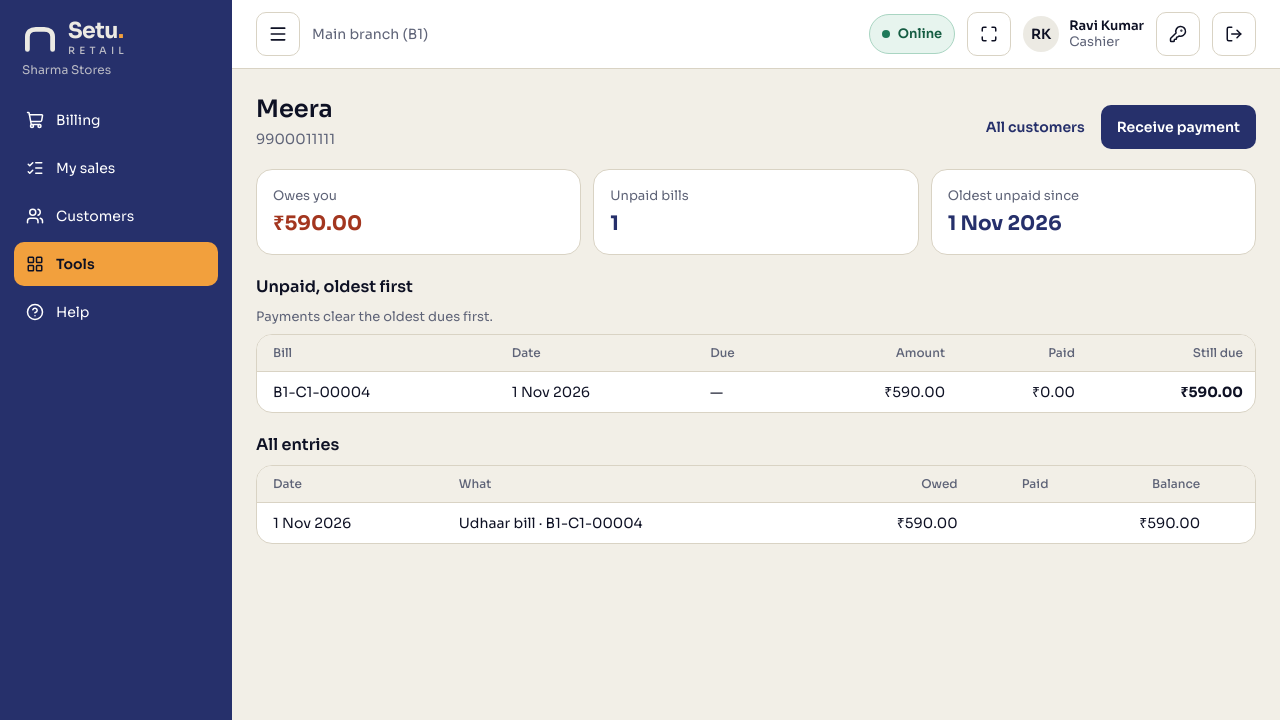
Test case: connected tools › a cashier receives an udhaar payment; the oldest dues go first
Expected: the heading "Meera" is shown, [256, 93, 335, 125]
Click the button "Receive payment": [1178, 127] box [1101, 105, 1256, 149]
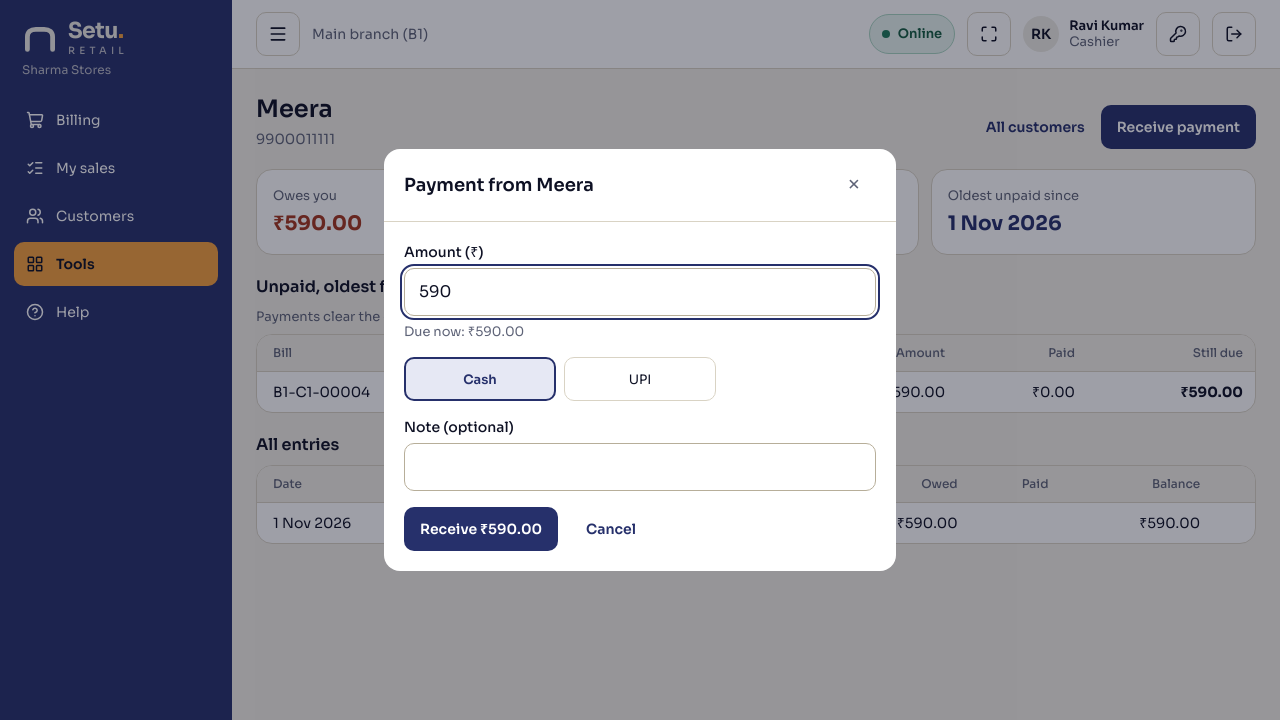
Now the field labelled "Amount (₹)" holds "590"
Replace the text in the field labelled "Amount (₹)" with "400": [640, 292] box [404, 268, 876, 316]
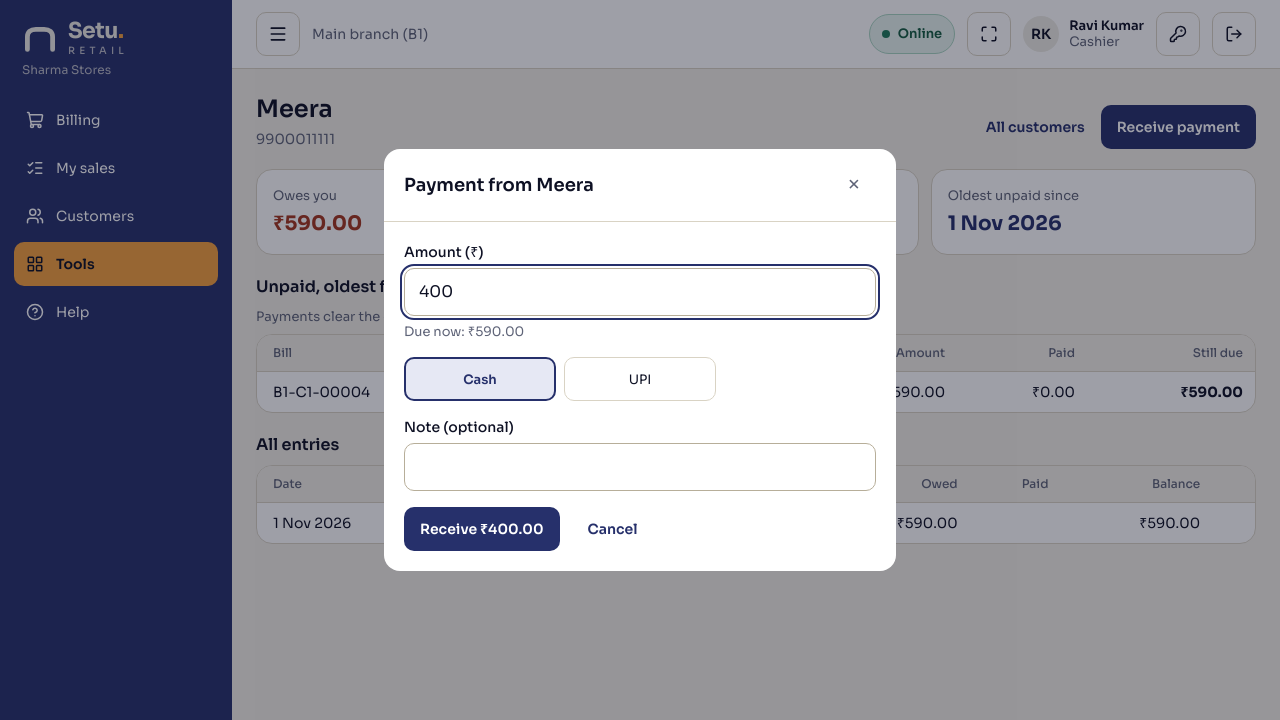
Click the button "Receive ₹400.00": [482, 529] box [404, 507, 560, 551]
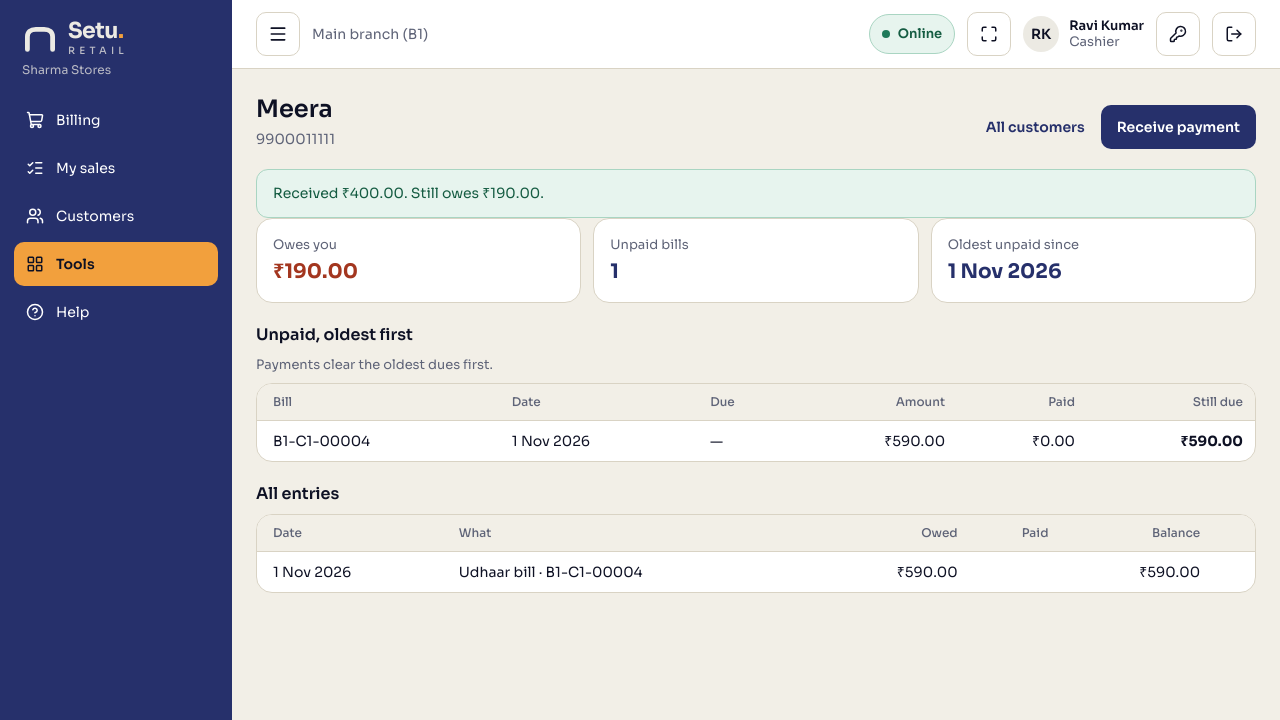
Now the text "Received ₹400.00. Still owes ₹190.00." is shown, box [256, 169, 1256, 218]
